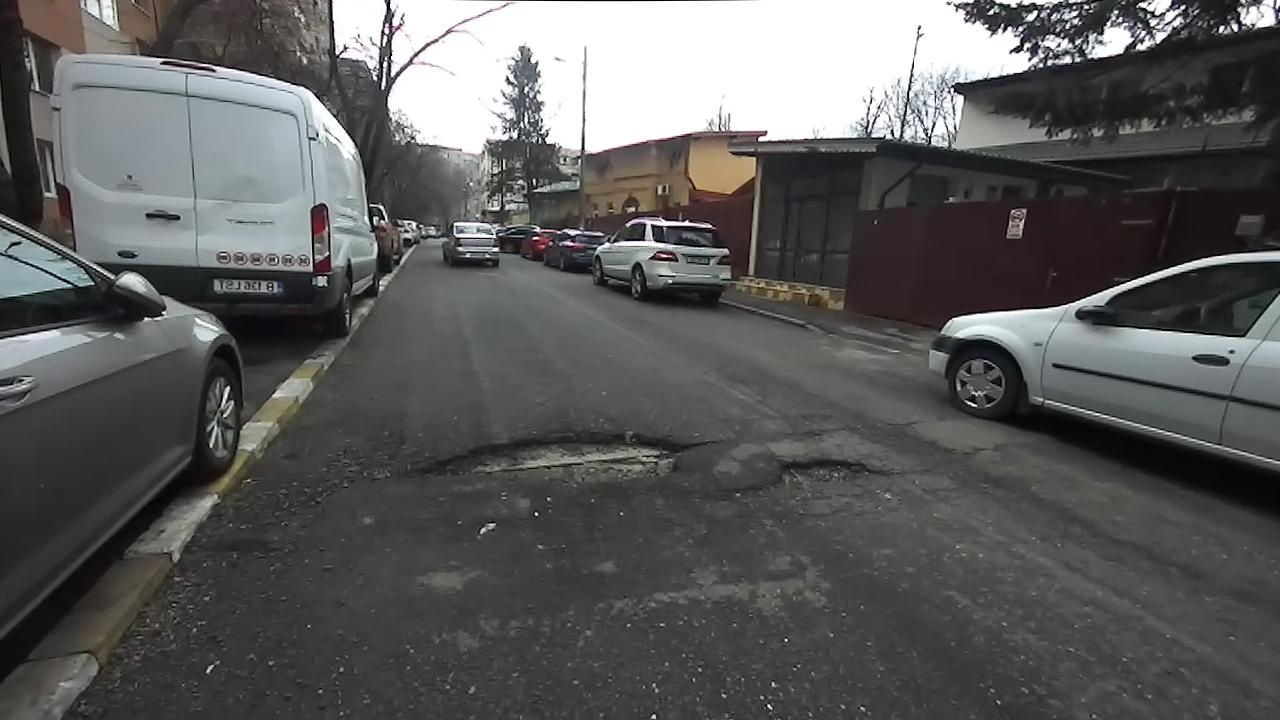pothole: (403, 423, 692, 494), (757, 453, 886, 501)
